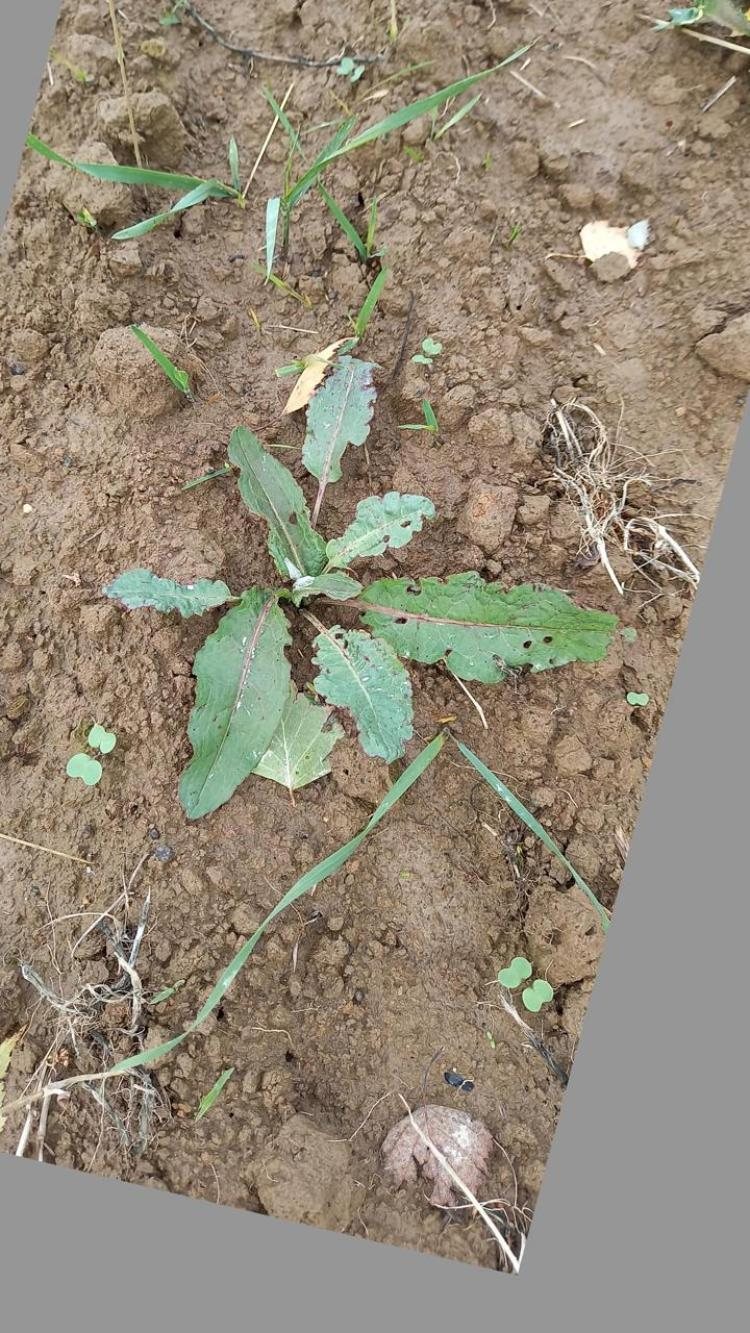zhavel: (104, 354, 621, 823)
